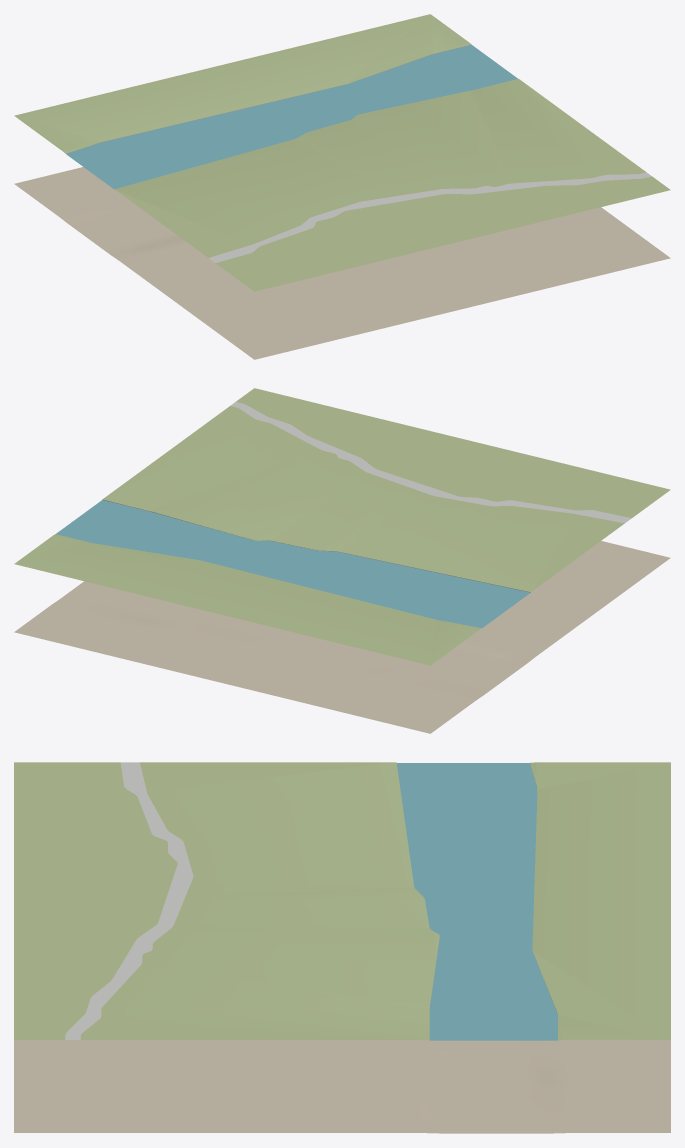
3 views of the same model, one above another, from view 1: azimuth 30°, elevation 25°; view 2: azimuth 150°, elevation 25°; view 3: azimuth 270°, elevation 25° (orthographic). The views are drawn at different scales.
Parts seen in each view (by area): view 1: s_-9_-7__grass, s_-9_-7__soil, s_-9_-7__water, s_-9_-7__stone_paving; view 2: s_-9_-7__grass, s_-9_-7__soil, s_-9_-7__water, s_-9_-7__stone_paving; view 3: s_-9_-7__grass, s_-9_-7__soil, s_-9_-7__water, s_-9_-7__stone_paving.
Boxes of the visible parts, x1=… form: s_-9_-7__grass: x1=14, y1=14, x2=670, y2=291; s_-9_-7__soil: x1=14, y1=167, x2=670, y2=359; s_-9_-7__water: x1=66, y1=45, x2=517, y2=189; s_-9_-7__stone_paving: x1=209, y1=172, x2=651, y2=262; s_-9_-7__grass: x1=14, y1=388, x2=670, y2=665; s_-9_-7__soil: x1=14, y1=541, x2=670, y2=733; s_-9_-7__water: x1=56, y1=500, x2=530, y2=628; s_-9_-7__stone_paving: x1=230, y1=402, x2=631, y2=523; s_-9_-7__grass: x1=14, y1=762, x2=670, y2=1040; s_-9_-7__soil: x1=14, y1=1040, x2=670, y2=1133; s_-9_-7__water: x1=396, y1=763, x2=557, y2=1040; s_-9_-7__stone_paving: x1=65, y1=762, x2=193, y2=1039.
Size of the model in its own units: 128 by 20.14 by 128.
